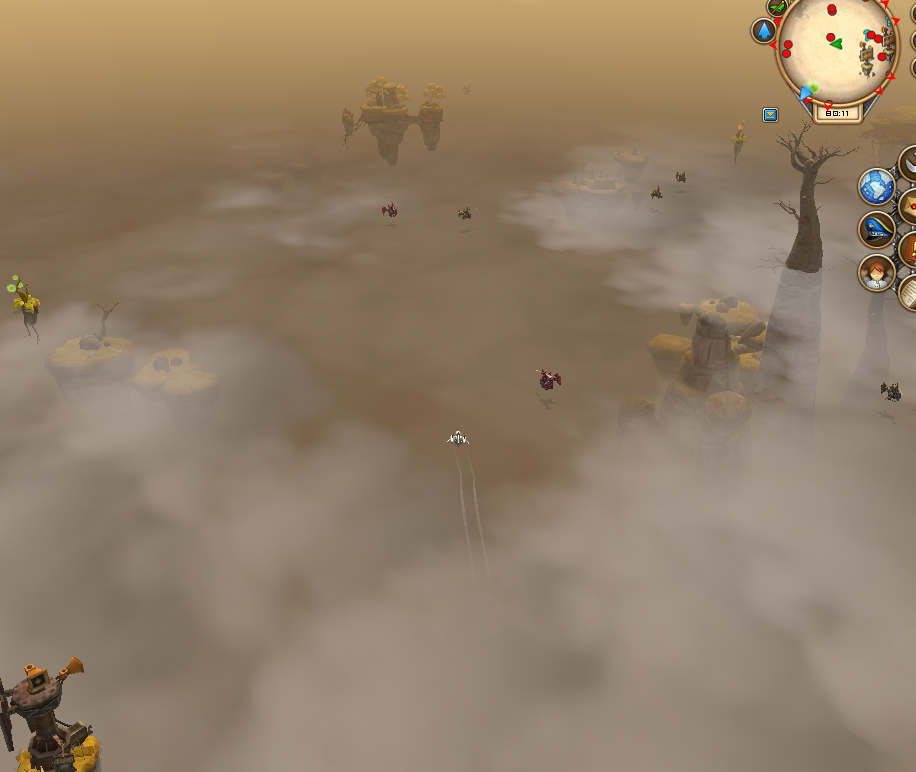dandelion-full: (5, 269, 45, 336), (727, 110, 748, 158)
